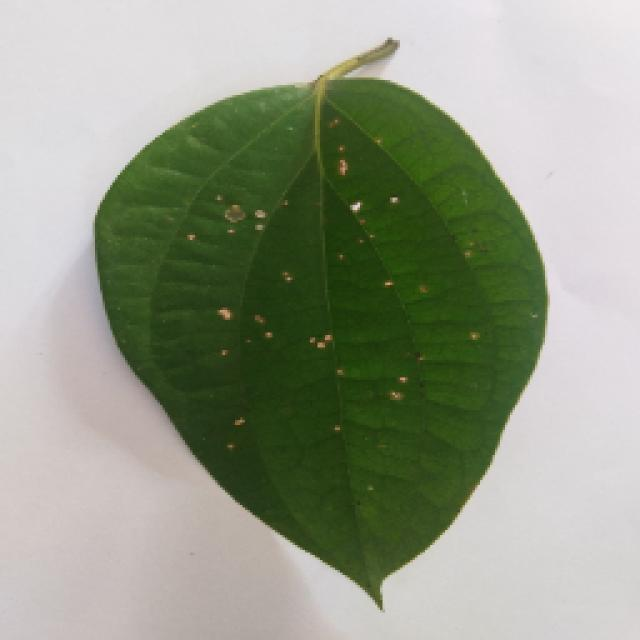pollu-disease: (90, 48, 548, 610)
